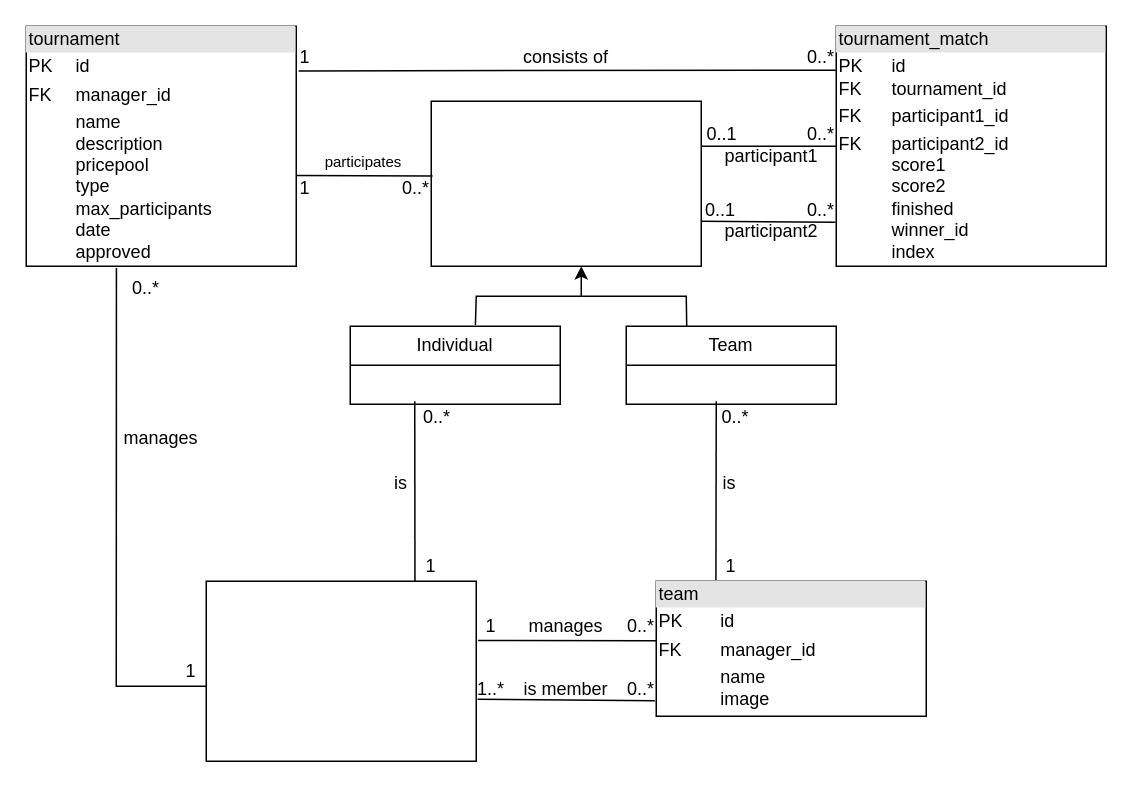
Some shapes in this 1133 by 788 pixel diagram are drawn without their labels. The box of each missing label's shape, as (x1, y1, x2, y2) in pixels:
participant PK id FK tournament_id participant_id participant_type approved: (430, 100, 701, 266)
user PK id name email password role image: (205, 580, 476, 761)
